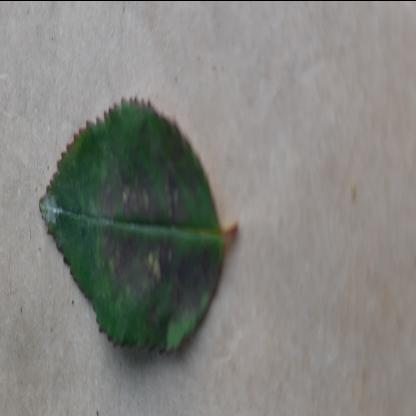powdery-mildew: (38, 92, 222, 361)
